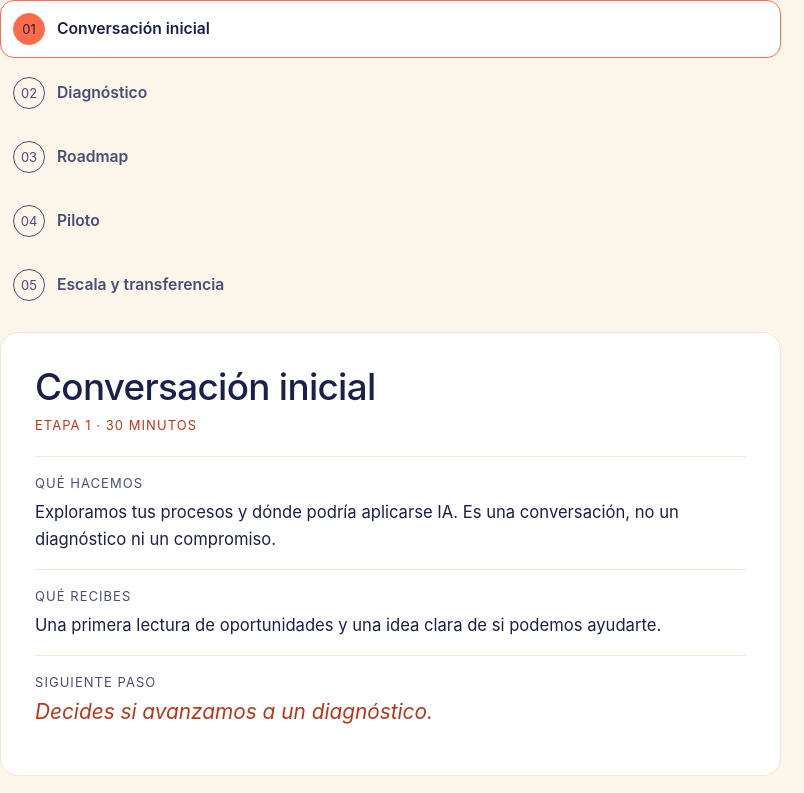
Test: recorrido en es › al elegir la etapa 3 se muestra con sus tres partes
Click the tab "03 Roadmap".
click(71, 157)  # box x1=13 y1=141 x2=128 y2=173
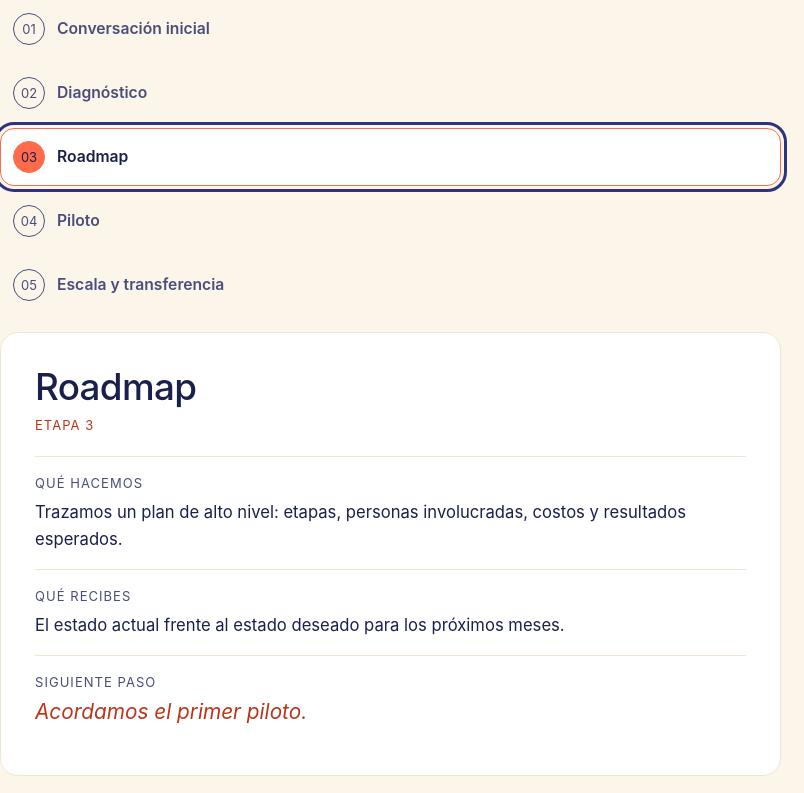
Check: the heading reads "Roadmap", box x1=35 y1=364 x2=196 y2=409
